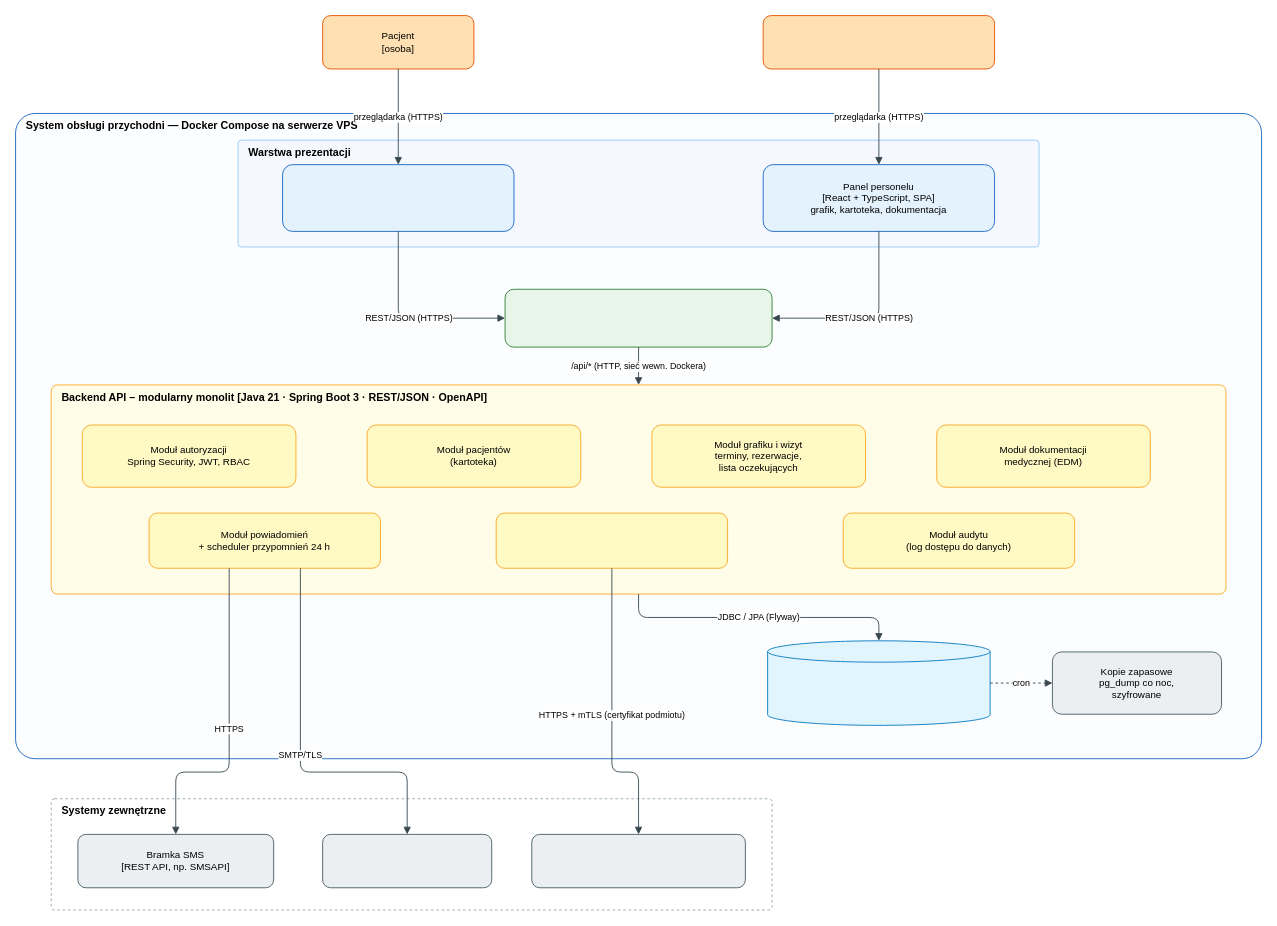
Some shapes in this 1277 by 926 pixel diagram are drawn without their labels. Each missing label, with the centre of its shape:
"Adapter integracji P1 (e-recepta, e-skierowanie)" belongs at point 611,540.
"Baza danych [PostgreSQL 16] pacjenci, grafik, wizyty, EDM, log audytowy" belongs at point 878,682.
"Personel: rejestratorka, lekarz, administrator [osoby]" belongs at point 878,42.
"Portal pacjenta [React + TypeScript, SPA] umawianie wizyt, historia, e-recepty" belongs at point 398,197.
"Reverse proxy [Nginx] HTTPS (TLS 1.3), pliki SPA, routing /api" belongs at point 638,317.
"Serwer poczty [SMTP]" belongs at point 407,860.
"System P1 / e-zdrowie [HL7 FHIR / SOAP]" belongs at point 638,860.
